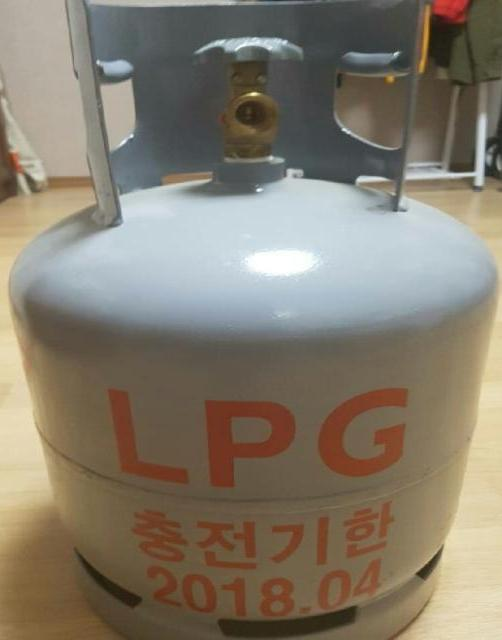cylinder: (1, 0, 502, 640)
